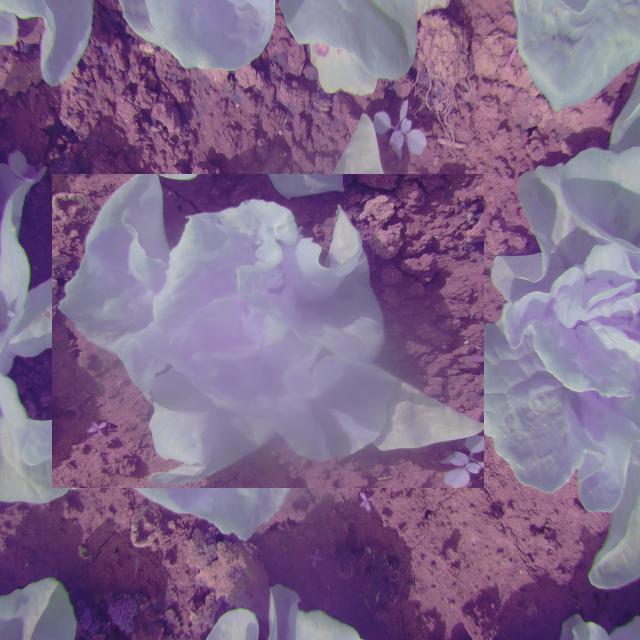vege: (82, 144, 455, 518)
